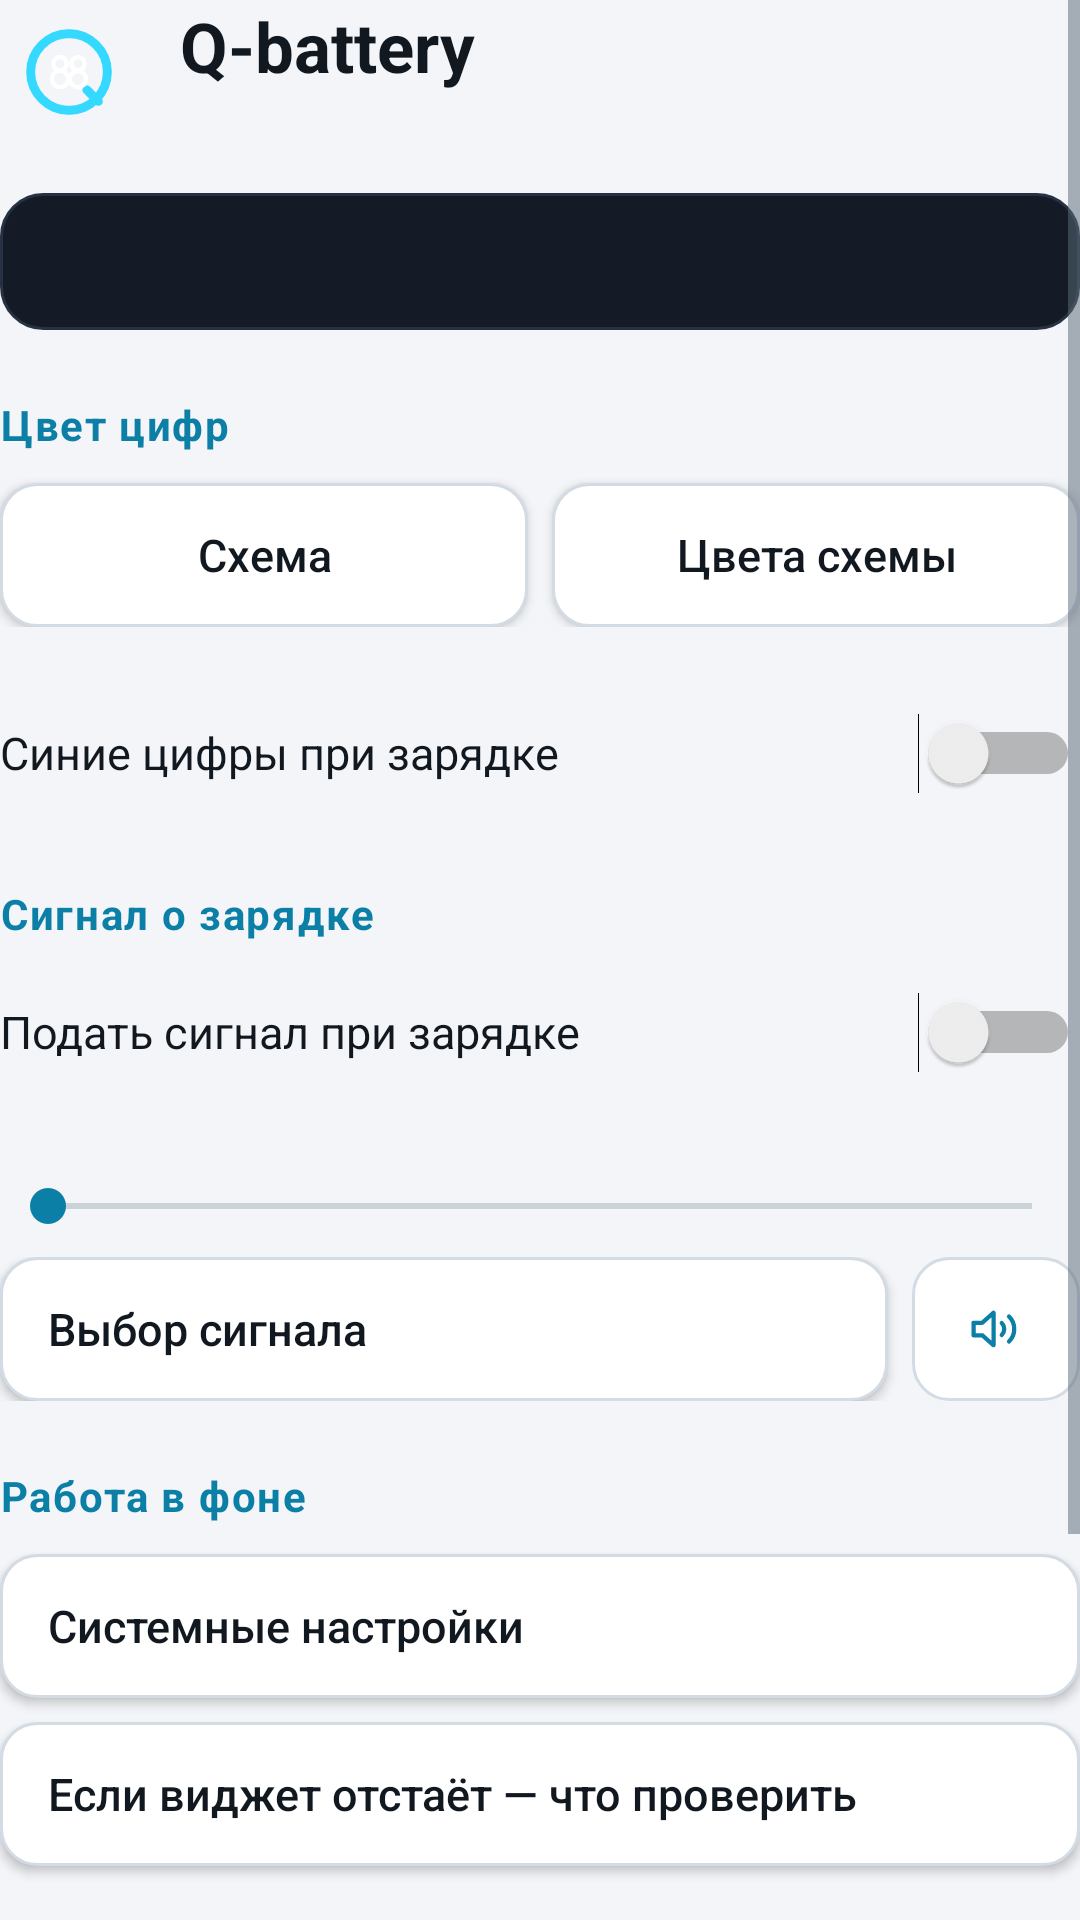

Icon bounding boxes for this 1080x1920 phone screenshot, format [x1, y1, x2, y2]:
Проверить сигнал: [912, 1257, 1080, 1401]
